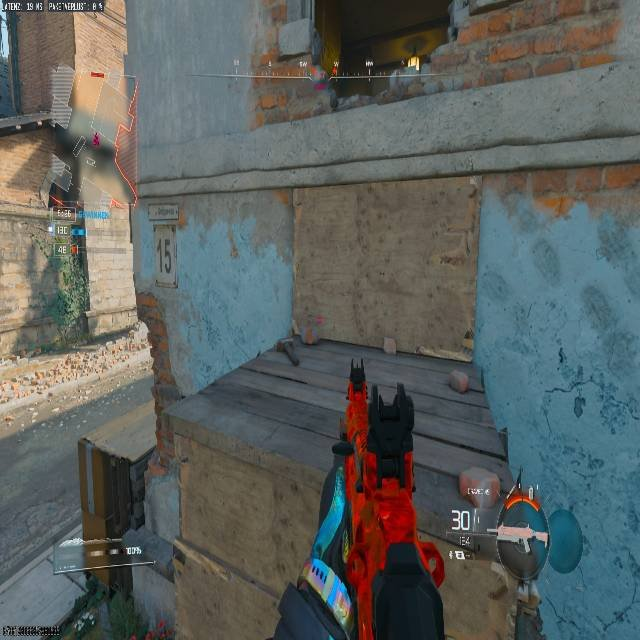player: (492, 484, 553, 639)
